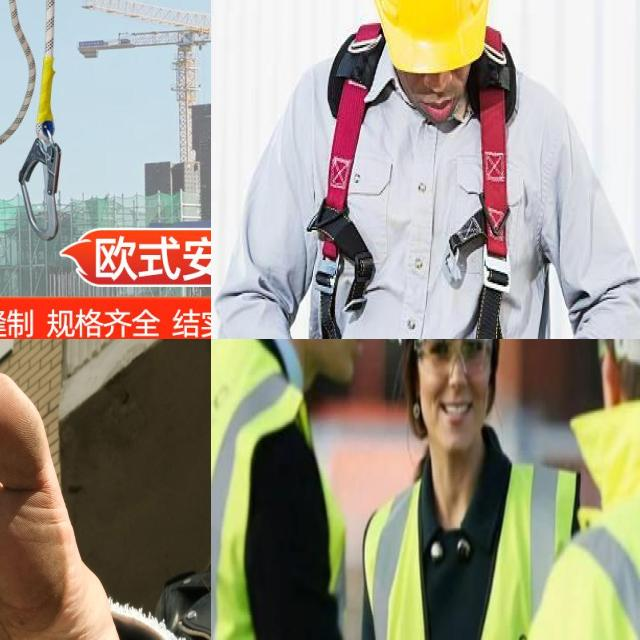Barefoots: (0, 373, 147, 640)
Harness: (307, 23, 384, 339), (450, 28, 517, 339), (19, 129, 62, 243)
face_nomask: (411, 339, 502, 452), (295, 339, 385, 390)
glasses: (410, 339, 497, 379)
person: (365, 339, 537, 640), (211, 339, 374, 640), (547, 339, 640, 640)
vest: (358, 439, 570, 640), (211, 339, 339, 640), (575, 403, 640, 640)
